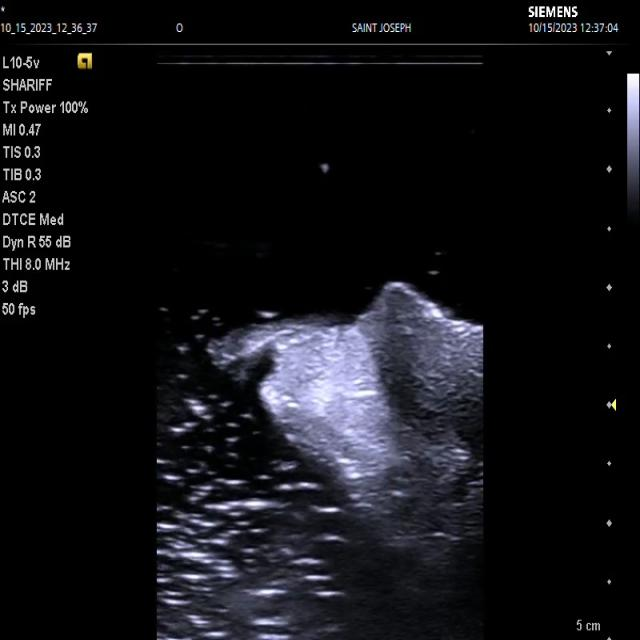tissue: (208, 283, 485, 640)
